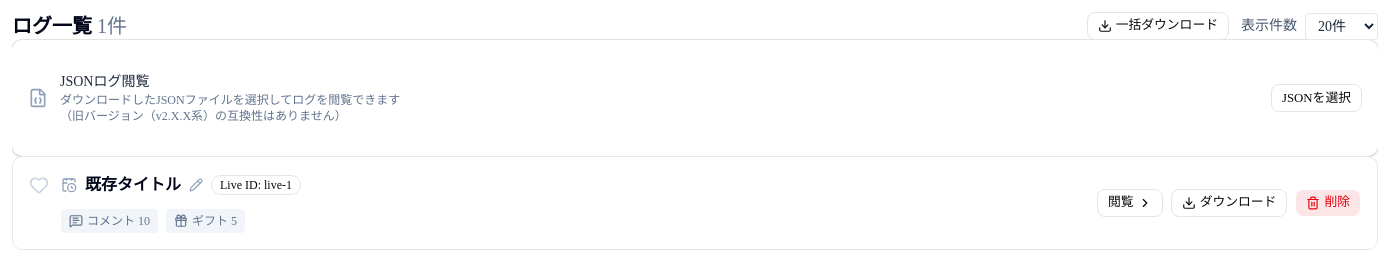
Test: LogListPage › タイトル編集（canEdit=true） › Escキーで編集をキャンセルする
This screenshot has width=1390, height=268.
Click the button named "タイトルを編集" at (196, 185), box [189,178,203,192]
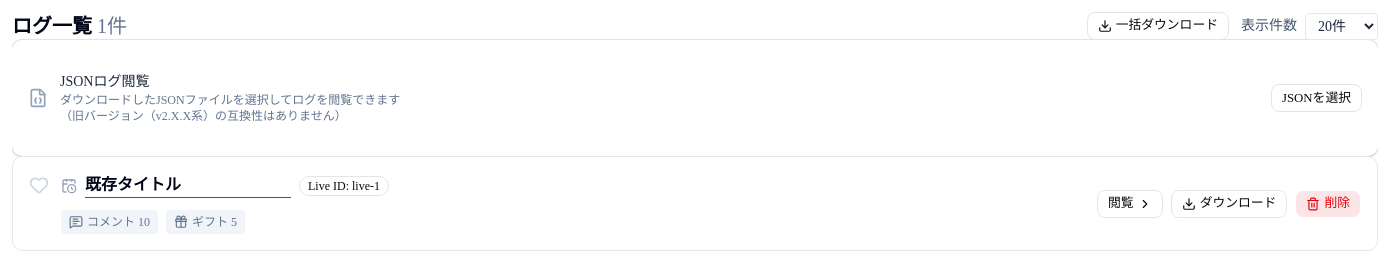
Replace the text in the field with "変更後" at (188, 186), box [85,173,291,198]
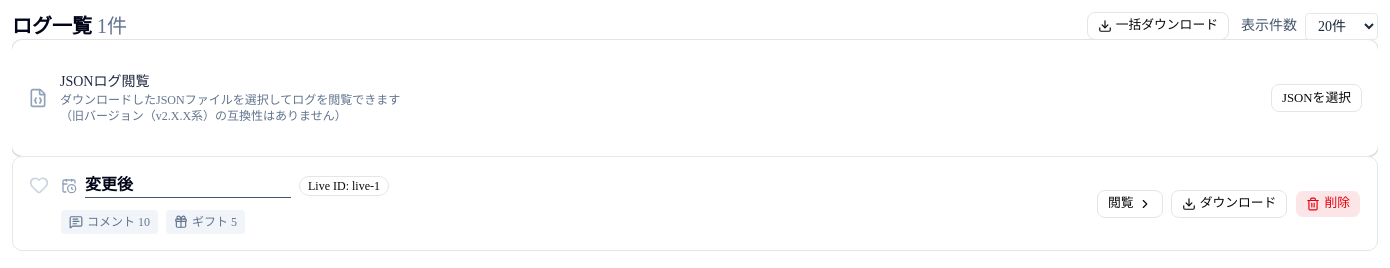
Press Escape in the field, box [85,173,291,198]
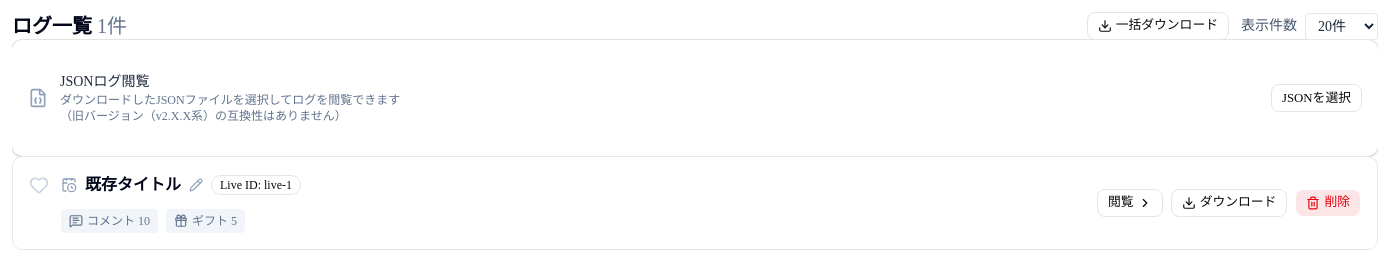
Check: the field is gone
Check: the text "既存タイトル" is shown, box [85,173,181,197]
